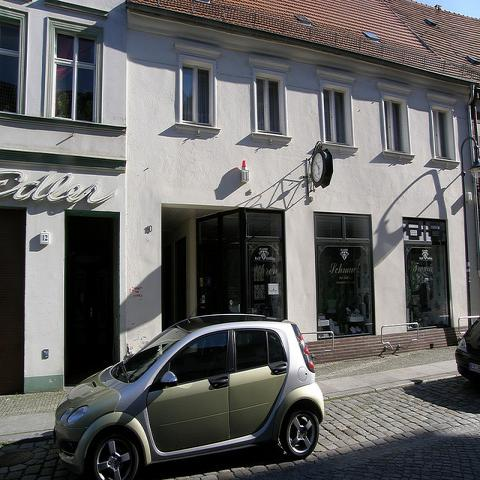car: (50, 312, 326, 474), (454, 315, 480, 385)
